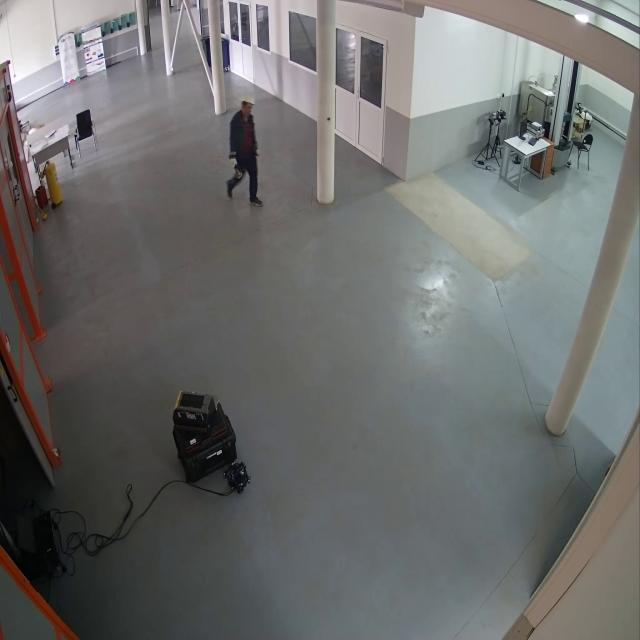Hardhat: (241, 93, 255, 105)
Person: (228, 90, 264, 210)
